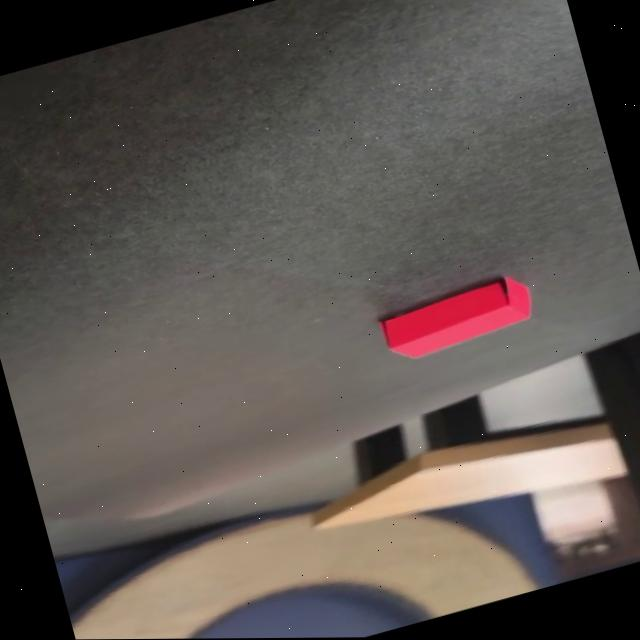red block: (373, 270, 537, 366)
